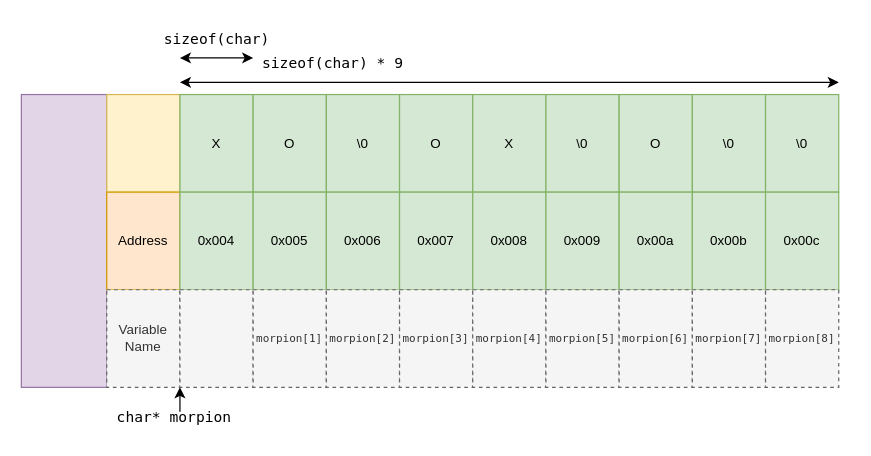
Some shapes in this 871 by 456 pixel diagram are drawn without their labels. Here are the shapes that lost their labels. From the top down, the centre of each, then its label:
At pixel 143 142: "Value".
At pixel 63 240: "Memory".
At pixel 216 338: "morpion[0]".
